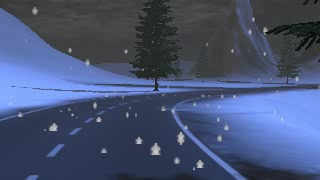Lane: (0, 86, 304, 179)
